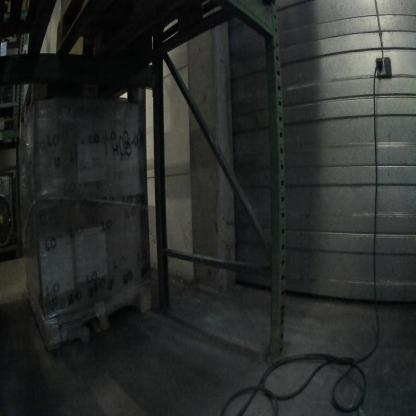pallet: (50, 0, 283, 74), (24, 269, 160, 356), (1, 3, 41, 45), (1, 114, 21, 142), (1, 244, 20, 264)
stillage: (1, 165, 21, 252), (0, 50, 27, 114)
